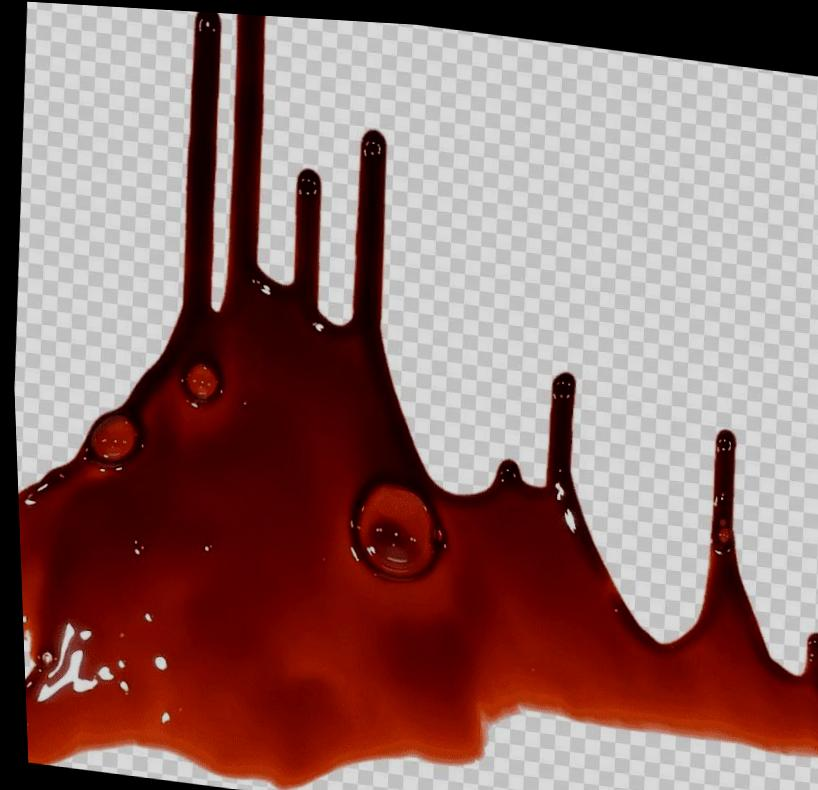Fire: (14, 9, 818, 787)
